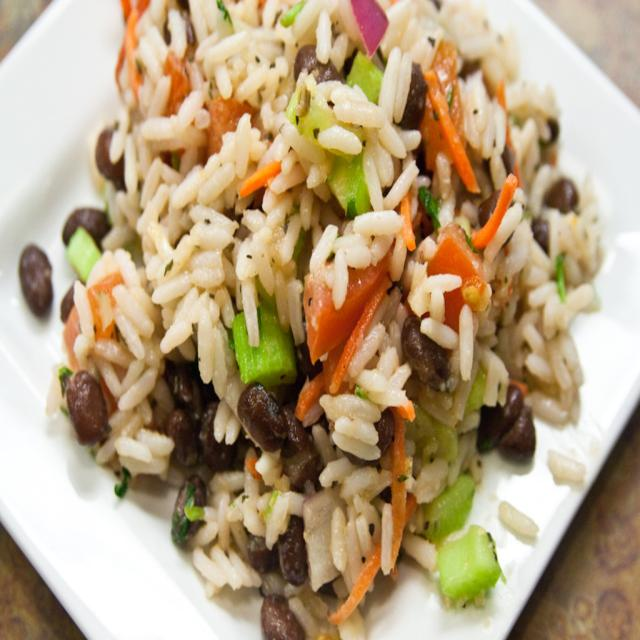carrot: (304, 246, 399, 358), (426, 221, 488, 329), (328, 538, 384, 626)
